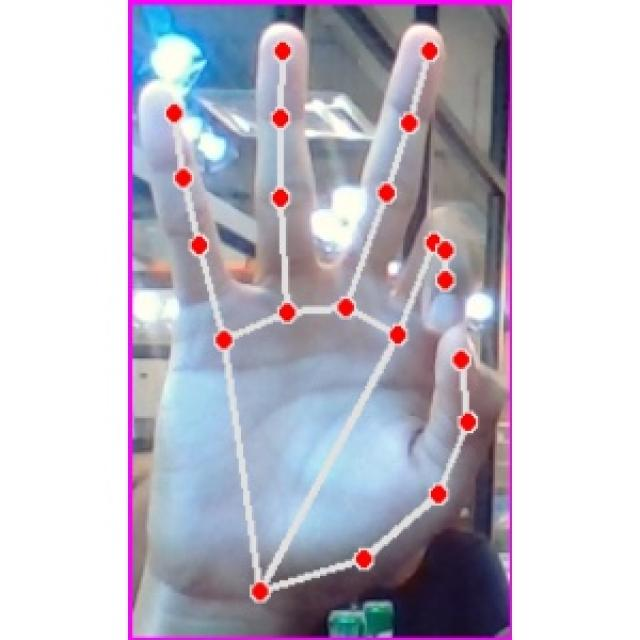F: (138, 19, 507, 610)
